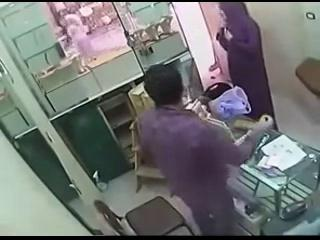Normal: (136, 64, 272, 235), (94, 196, 194, 236), (280, 200, 308, 220)
